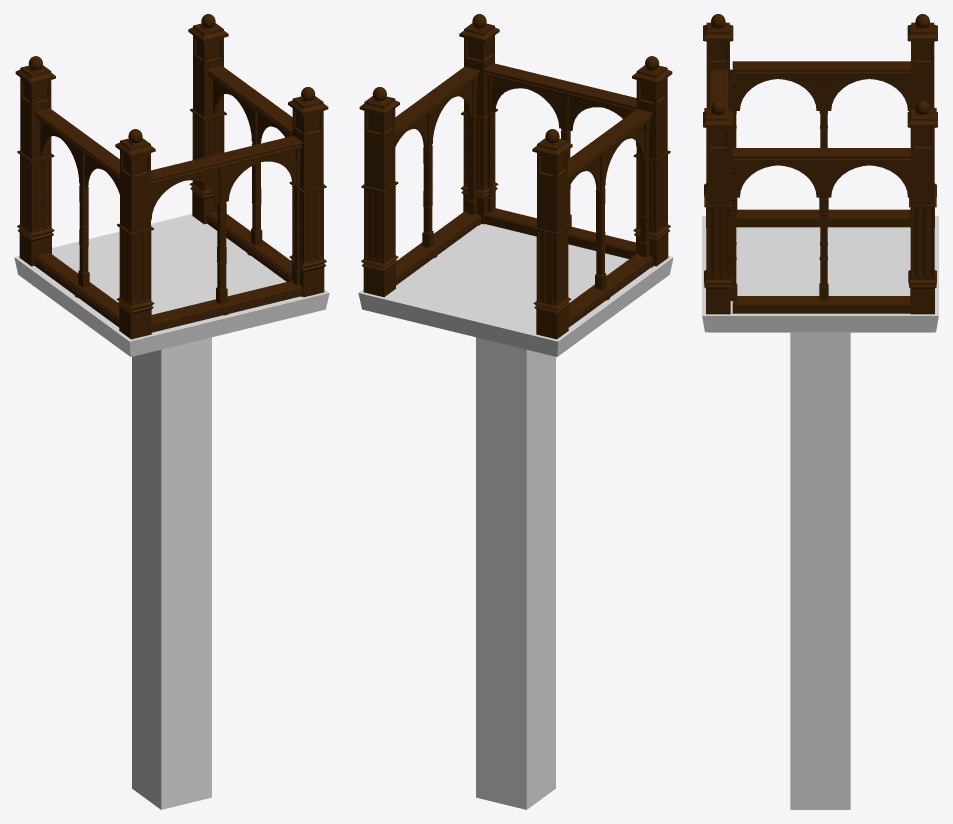
File: Ascensor2.fbx
3 views of the same model, side by side, from view 1: azimuth 30°, elevation 25°; view 2: azimuth 150°, elevation 25°; view 3: azimuth 270°, elevation 25° (orthographic). The views are drawn at different scales.
Visible parts, largest first — view 1: Ascensor, Mat1_UniPos023; view 2: Ascensor, Mat1_UniPos023; view 3: Ascensor, Mat1_UniPos023.
Part boxes in pixels (box(x1,y1,x2,y2)): Ascensor: box(14, 214, 329, 809); Mat1_UniPos023: box(15, 14, 328, 339); Ascensor: box(358, 224, 673, 809); Mat1_UniPos023: box(359, 14, 672, 339); Ascensor: box(702, 216, 938, 809); Mat1_UniPos023: box(703, 14, 937, 314).
Size of the model in its own units: 147 by 507 by 147.
